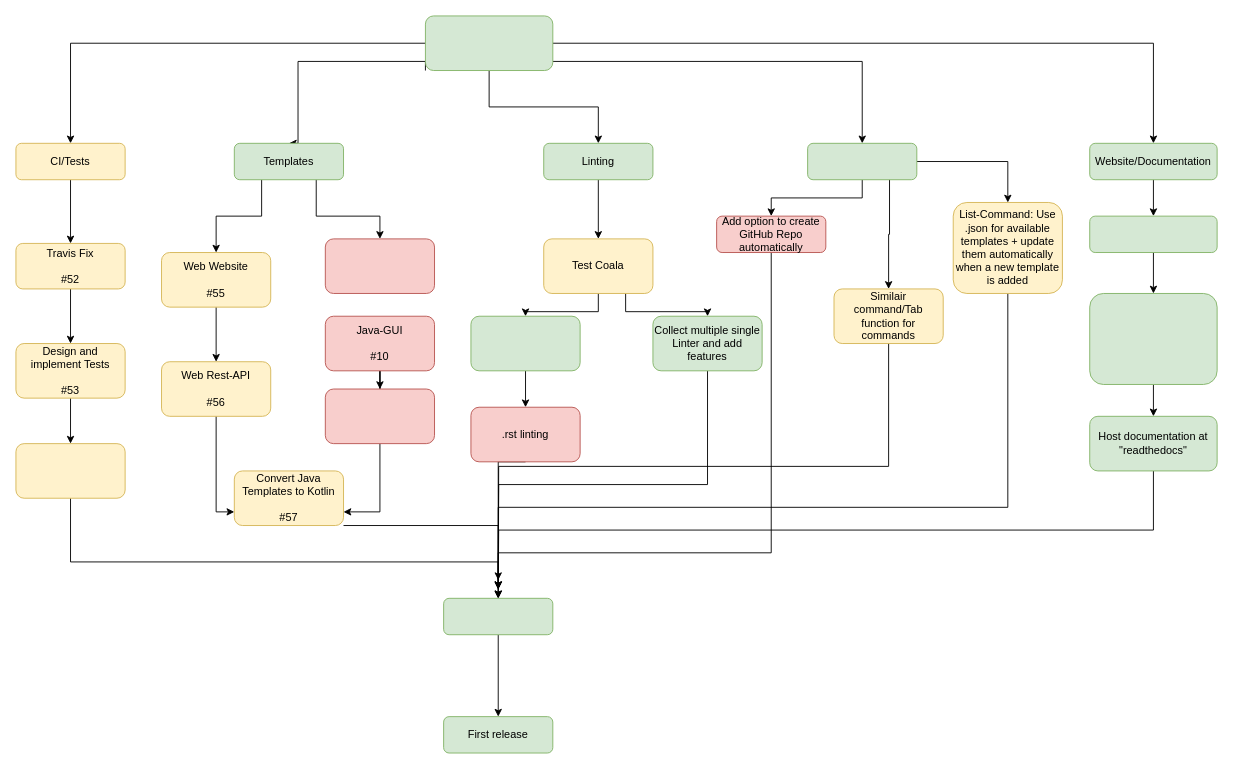
Image size: 1233x769. Some labels were removed from this diagram. Each missing label, with the centre of its shape:
Cookietemple: (x=489, y=43)
Java-CLI #53: (x=379, y=416)
Migrate to Github CI #54: (x=70, y=470)
Nice-to-have: (x=862, y=161)
Python-CLI #58: (x=379, y=265)
RC-1: (x=498, y=616)
Search a template: (x=1153, y=234)
Static Website introducing the project and "get started" Guide: (x=1153, y=338)
Use Coala: (x=525, y=343)
